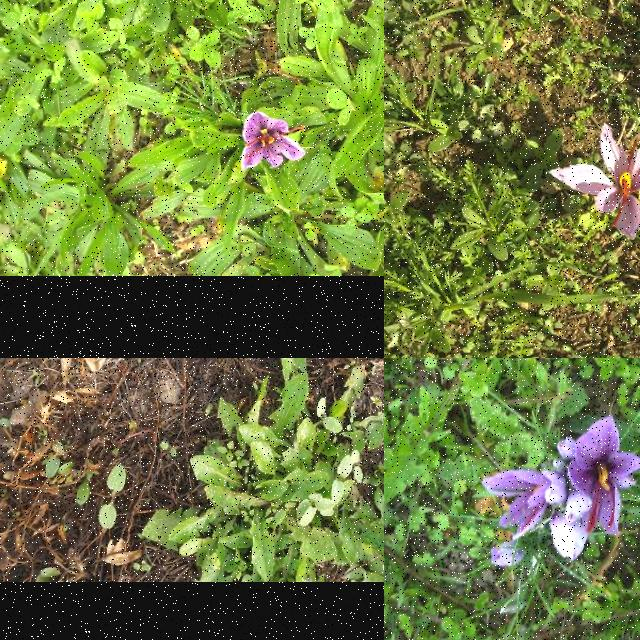flower: (481, 416, 640, 566), (552, 123, 640, 240), (242, 112, 306, 174)
